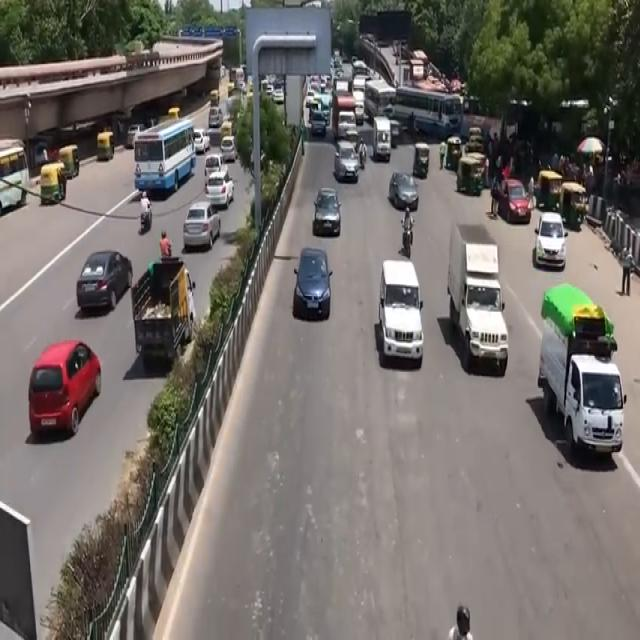BUS: (133, 118, 196, 197), (392, 82, 463, 136)
MOTORCYCLE: (401, 221, 412, 258)
TRUCK: (540, 288, 624, 460), (448, 225, 506, 375), (135, 261, 192, 365)
